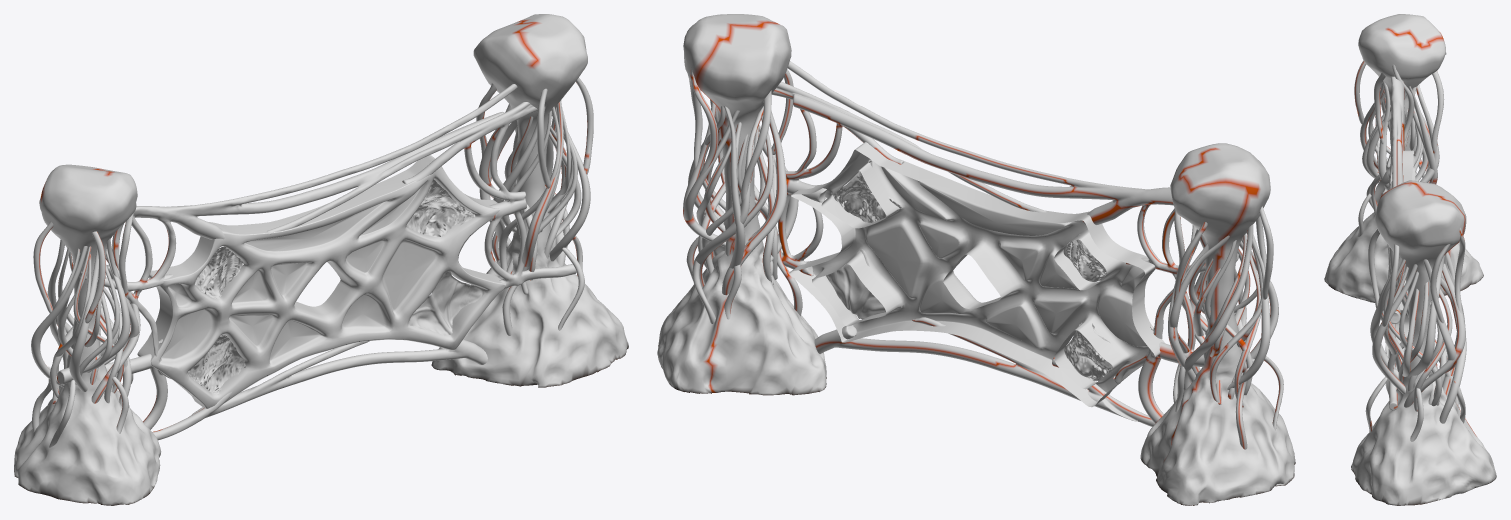
File: SM_Trou1_low.fbx
3 renders of one model, left to right at view 1: azimuth 30°, elevation 25°; view 2: azimuth 150°, elevation 25°; view 3: azimuth 270°, elevation 25°, orthographic. The views are drawn at different scales.
Visible parts, largest first — view 1: HolePillar_013_SeamsColor, polySurface5, PM3D_Cylinder3D1_3_SeamsColor, HolePillar_089; view 2: HolePillar_013_SeamsColor, polySurface5, PM3D_Cylinder3D1_3_SeamsColor, HolePillar_089; view 3: HolePillar_013_SeamsColor, PM3D_Cylinder3D1_3_SeamsColor, polySurface5.
Part boxes in pixels (x1=…): HolePillar_013_SeamsColor: x1=14, y1=14, x2=628, y2=505; polySurface5: x1=137, y1=155, x2=505, y2=408; PM3D_Cylinder3D1_3_SeamsColor: x1=57, y1=84, x2=576, y2=440; HolePillar_089: x1=187, y1=179, x2=484, y2=394; HolePillar_013_SeamsColor: x1=657, y1=14, x2=1295, y2=505; polySurface5: x1=789, y1=142, x2=1165, y2=407; PM3D_Cylinder3D1_3_SeamsColor: x1=771, y1=61, x2=1254, y2=426; HolePillar_089: x1=826, y1=159, x2=1113, y2=380; HolePillar_013_SeamsColor: x1=1324, y1=14, x2=1496, y2=505; PM3D_Cylinder3D1_3_SeamsColor: x1=1388, y1=76, x2=1404, y2=410; polySurface5: x1=1385, y1=150, x2=1415, y2=394.
Size of the model in its own units: 3490 by 1817 by 1006.
